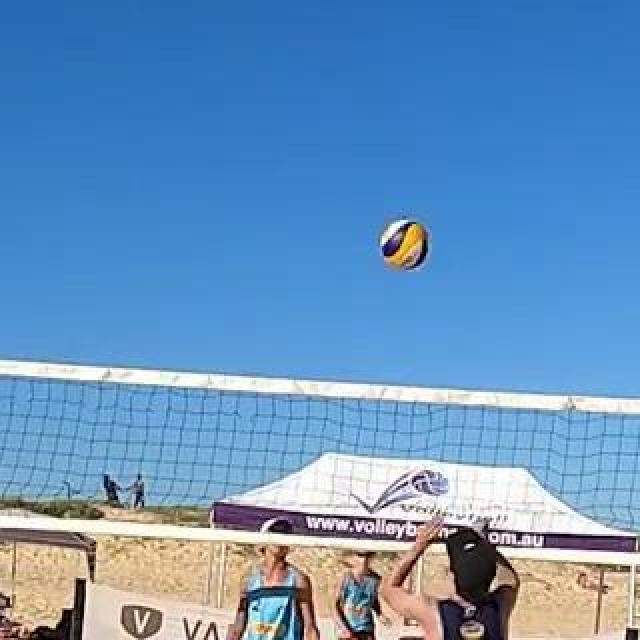volleyball: (381, 221, 429, 271)
